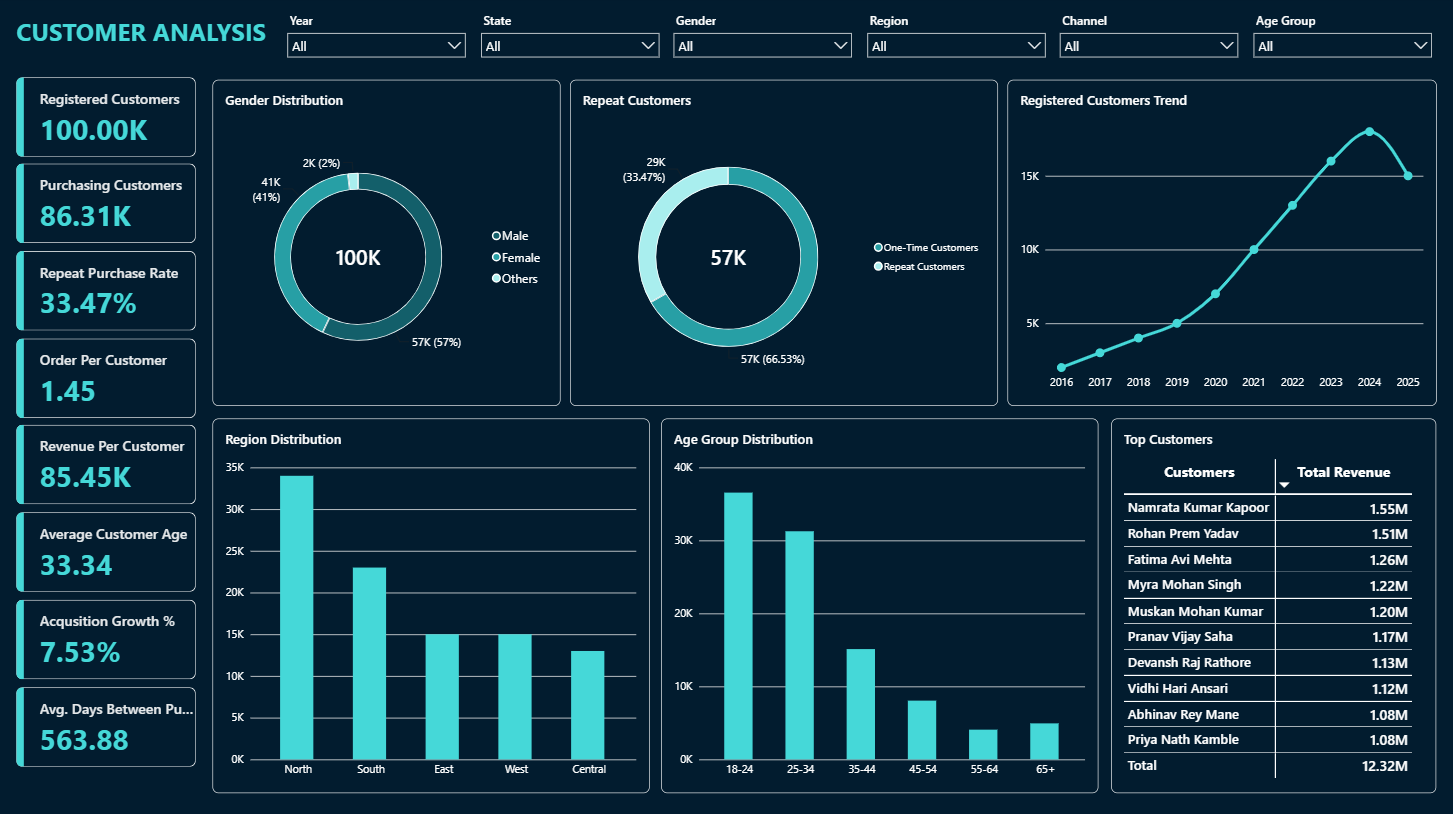

The page's visual inventory and layout, read from the dashboard file:
{"tool":"powerbi","page":{"name":"Customer Analysis Dashboard","canvas":[1920,1080],"ordinal":1},"visuals":[{"type":"cardVisual","fields":{"Data":["measures table.Total Registered Customers"]},"box":[20.7,106.4,237.5,105.4],"z":0},{"type":"cardVisual","fields":{"Data":["measures table.Total Purchasing Customers"]},"box":[21.4,221.4,237.5,105.4],"z":1000},{"type":"cardVisual","fields":{"Data":["measures table.Repeat Purchase Rate"]},"box":[21.4,336.4,237.5,105.4],"z":2000},{"type":"cardVisual","fields":{"Data":["measures table.Average Order Per Customer"]},"box":[20.7,451.4,237.5,105.4],"z":3000},{"type":"cardVisual","fields":{"Data":["measures table.Average Revenu per Customer"]},"box":[20.7,566.4,237.5,105.4],"z":4000},{"type":"cardVisual","fields":{"Data":["measures table.Average Customer Age"]},"box":[20.7,681.4,237.5,105.4],"z":5000},{"type":"cardVisual","fields":{"Data":["measures table.Acqusition Growth %"]},"box":[20.7,796.4,237.5,105.4],"z":6000},{"type":"lineChart","title":"Registered Customers Trend","fields":{"Category":["customer_analysis_date_table.year","customer_analysis_date_table.quarter","customer_analysis_date_table.monthname"],"Y":["measures table.Total Registered Customers"]},"box":[1328.6,110.4,566.1,430.4],"z":7000},{"type":"donutChart","title":"Gender Distribution","fields":{"Category":["vovers customers.gender"],"Y":["CountNonNull(vovers customers.gender)"]},"box":[280.4,110.4,458.9,430.4],"z":8000},{"type":"clusteredColumnChart","title":"Age Group Distribution","fields":{"Y":["CountNonNull(vovers customers.age)"],"Category":["vovers customers.Age Group"]},"box":[873.2,556.8,576.8,494.6],"z":9000},{"type":"columnChart","title":"Region Distribution","fields":{"Y":["CountNonNull(vovers customers.customer_id)"],"Category":["vovers customers.region"]},"box":[280.4,556.8,576.8,494.6],"z":10000},{"type":"donutChart","title":"Repeat Customers","fields":{"Y":["measures table.One-Time Customers","measures table.Repeat Customers"]},"box":[751.8,110.4,565,430.4],"z":11000},{"type":"cardVisual","fields":{"Data":["measures table.Average days between purchases"]},"box":[20.7,911.4,237.5,105.4],"z":12000},{"type":"pivotTable","title":"Top Customers","fields":{"Rows":["vovers customers.customer_name"],"Values":["measures table.Total Revenue"]},"box":[1466.1,556.8,428.6,494.6],"z":13000},{"type":"slicer","fields":{"Values":["customer_analysis_date_table.year"]},"box":[374.3,4.3,245,105],"z":14000},{"type":"slicer","fields":{"Values":["vovers customers.region"]},"box":[1139.3,4.3,245,105],"z":15000},{"type":"slicer","fields":{"Values":["vovers customers.state"]},"box":[629.3,4.3,245,105],"z":16000},{"type":"slicer","fields":{"Values":["vovers customers.gender"]},"box":[884.3,4.3,245,105],"z":17000},{"type":"slicer","fields":{"Values":["vovers customers.Age Group"]},"box":[1649.3,4.3,245,105],"z":18000},{"type":"slicer","fields":{"Values":["vovers orders.sales_channel"]},"box":[1394.3,4.3,245,105],"z":19000},{"type":"textbox","box":[21.4,5,337.5,105.4],"z":20000}]}

Visuals, with their boxes in screenshot pixels (x1, y1, x2, y2), scaled from the page's 1920x1080 canvas onto the 1453x814 screenshot:
cardVisual - measures table.Total Registered Customers: bbox=(16, 80, 195, 160)
cardVisual - measures table.Total Purchasing Customers: bbox=(16, 167, 196, 246)
cardVisual - measures table.Repeat Purchase Rate: bbox=(16, 254, 196, 333)
cardVisual - measures table.Average Order Per Customer: bbox=(16, 340, 195, 420)
cardVisual - measures table.Average Revenu per Customer: bbox=(16, 427, 195, 506)
cardVisual - measures table.Average Customer Age: bbox=(16, 514, 195, 593)
cardVisual - measures table.Acqusition Growth %: bbox=(16, 600, 195, 680)
"Registered Customers Trend" lineChart: bbox=(1005, 83, 1434, 408)
"Gender Distribution" donutChart: bbox=(212, 83, 559, 408)
"Age Group Distribution" clusteredColumnChart: bbox=(661, 420, 1097, 792)
"Region Distribution" columnChart: bbox=(212, 420, 649, 792)
"Repeat Customers" donutChart: bbox=(569, 83, 997, 408)
cardVisual - measures table.Average days between purchases: bbox=(16, 687, 195, 766)
"Top Customers" pivotTable: bbox=(1110, 420, 1434, 792)
slicer - customer_analysis_date_table.year: bbox=(283, 3, 469, 82)
slicer - vovers customers.region: bbox=(862, 3, 1048, 82)
slicer - vovers customers.state: bbox=(476, 3, 662, 82)
slicer - vovers customers.gender: bbox=(669, 3, 855, 82)
slicer - vovers customers.Age Group: bbox=(1248, 3, 1434, 82)
slicer - vovers orders.sales_channel: bbox=(1055, 3, 1241, 82)
textbox: bbox=(16, 4, 272, 83)
